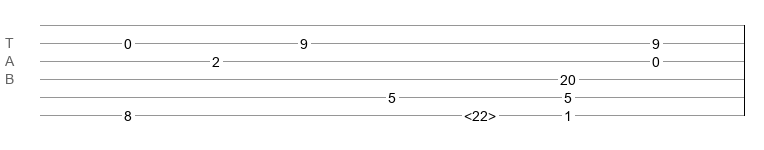0: (124, 36, 132, 46), (652, 54, 660, 64)
1: (564, 108, 572, 118)
2: (212, 54, 220, 64)
20: (560, 72, 576, 82)
5: (388, 90, 396, 100), (564, 90, 572, 100)
8: (124, 108, 132, 118)
9: (300, 36, 308, 46), (652, 36, 660, 46)
harmonic: (464, 108, 496, 118)
